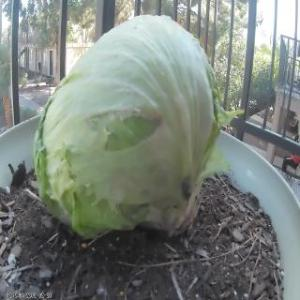cabbage: (31, 11, 222, 241)
